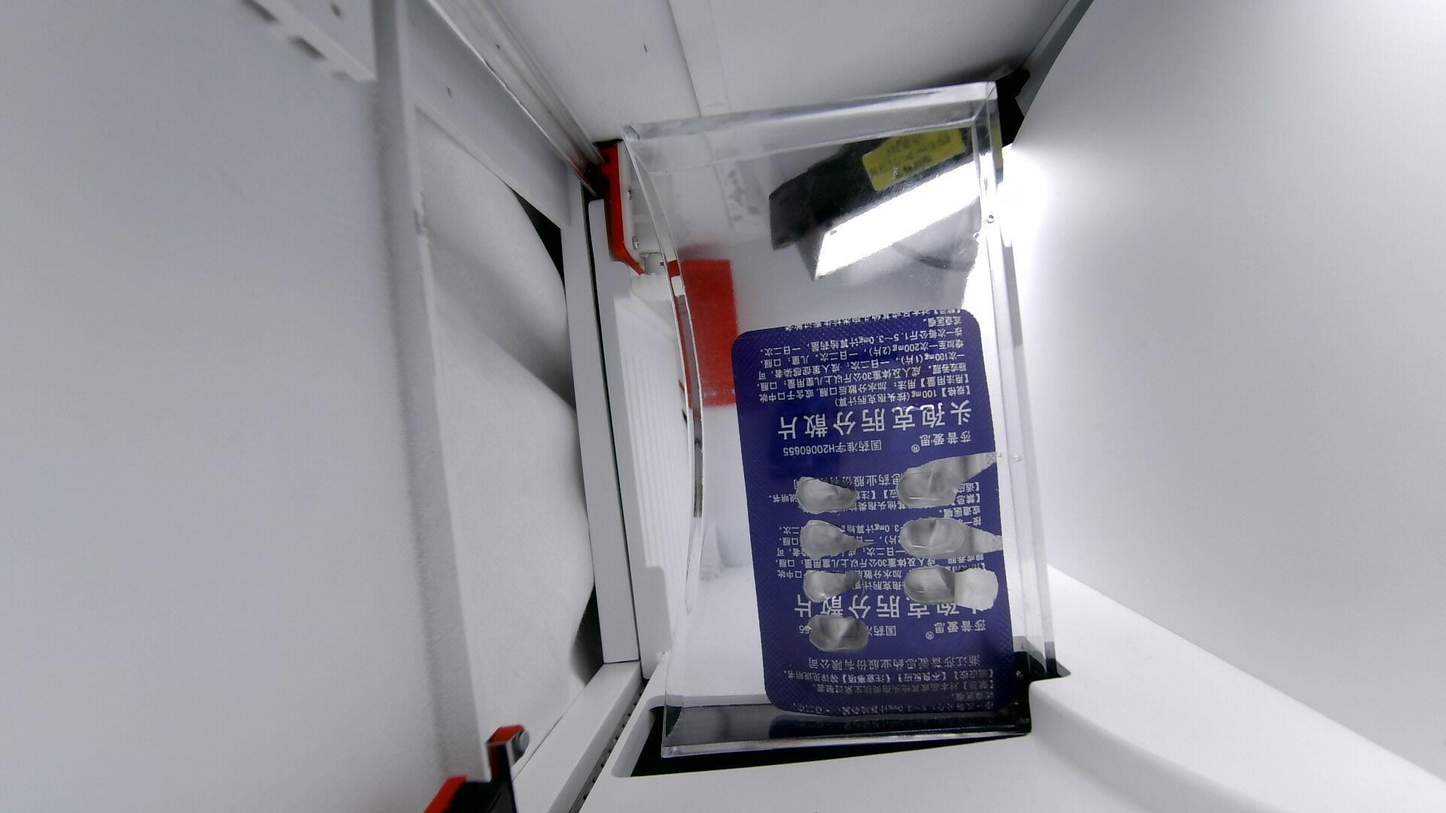No Pill Back: (901, 563, 989, 607), (894, 519, 984, 559), (795, 521, 871, 562), (801, 613, 874, 654), (795, 470, 862, 513), (895, 471, 966, 510), (800, 568, 868, 603)
Pill Back: (771, 367, 854, 410), (895, 416, 970, 460), (773, 422, 856, 461), (893, 367, 966, 407), (907, 614, 985, 651)
